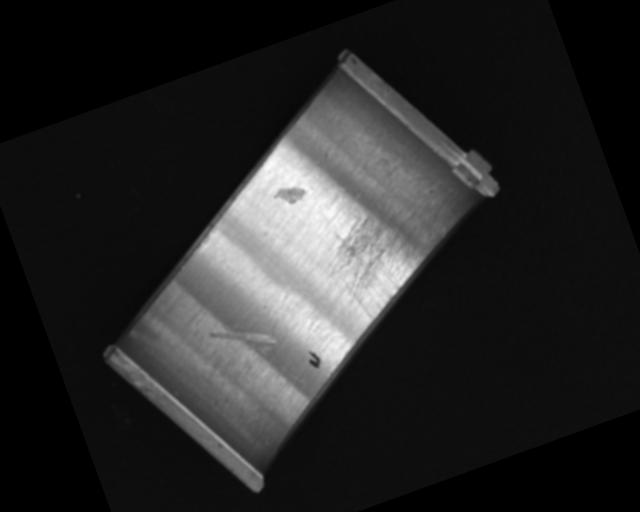blot: (305, 347, 324, 371)
bruise: (271, 180, 310, 210)
nick: (265, 309, 322, 403), (209, 312, 279, 366)
scratch: (310, 186, 461, 331)
